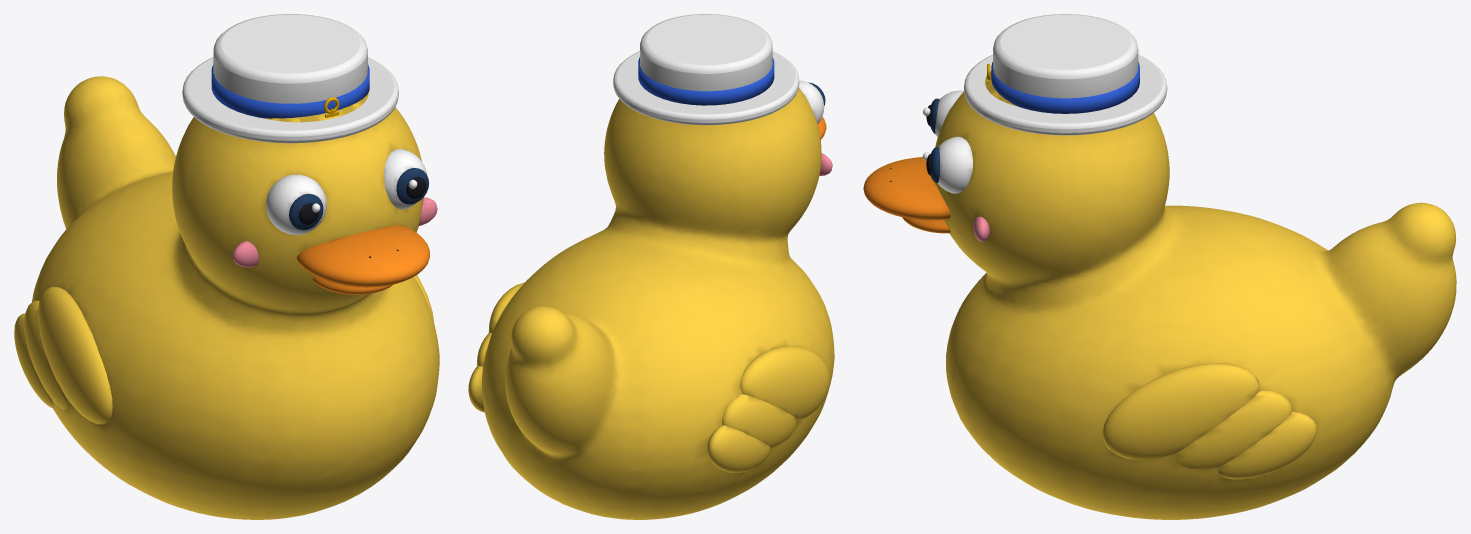
Rendered from duck.glb.
The picture shows the model from 3 angles, left to right: view 1: azimuth 30°, elevation 25°; view 2: azimuth 150°, elevation 25°; view 3: azimuth 270°, elevation 25°; orthographic projection. The views are drawn at different scales.
Visible parts, largest first — view 1: Duck.001; view 2: Duck.001; view 3: Duck.001.
Part boxes in pixels (x1,y1,x2,y2): Duck.001: (14,14,439,519); Duck.001: (468,14,834,519); Duck.001: (863,14,1456,519).
Bounding box in the file's own units: 1.04 × 1.39 × 1.64.
